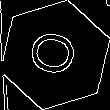O_E: (25, 28, 85, 82)
